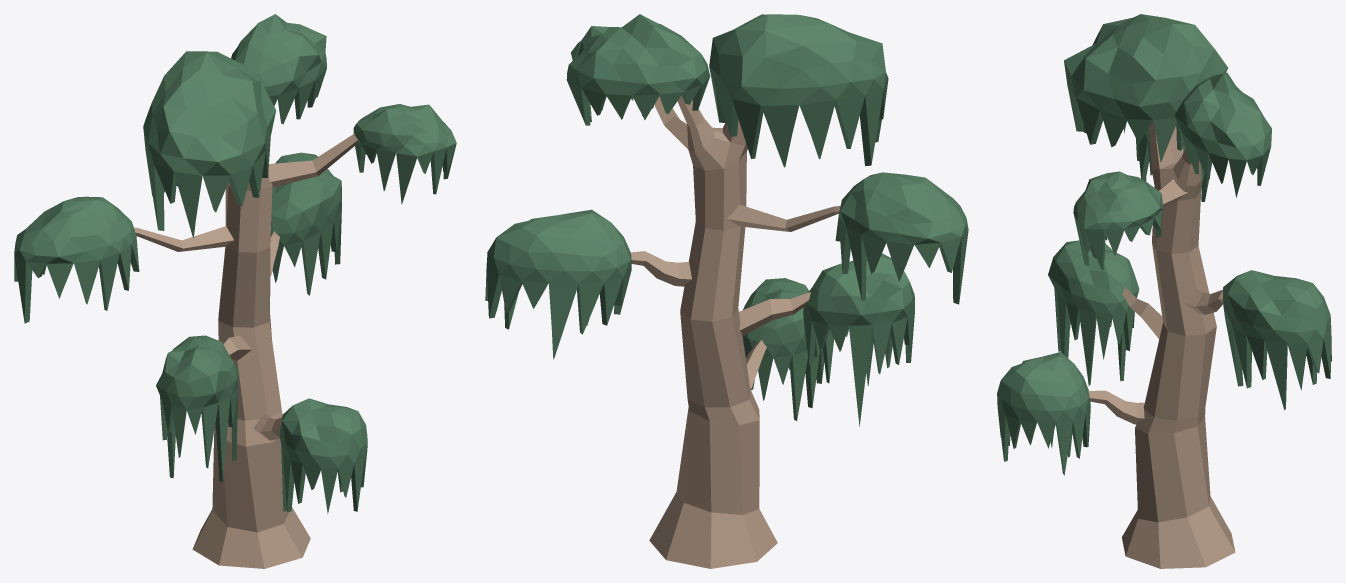
File: Tree_cypress.fbx
3 views of the same model, side by side, from view 1: azimuth 30°, elevation 25°; view 2: azimuth 150°, elevation 25°; view 3: azimuth 270°, elevation 25° (orthographic). The views are drawn at different scales.
Parts seen in each view (by area): view 1: mesh_cypress; view 2: mesh_cypress; view 3: mesh_cypress.
Boxes of the visible parts, x1,y1,x2,y2 form: mesh_cypress: (14,14,456,568); mesh_cypress: (485,14,968,568); mesh_cypress: (997,14,1331,568).
Size of the model in its own units: 5.23 by 6.38 by 3.89.
